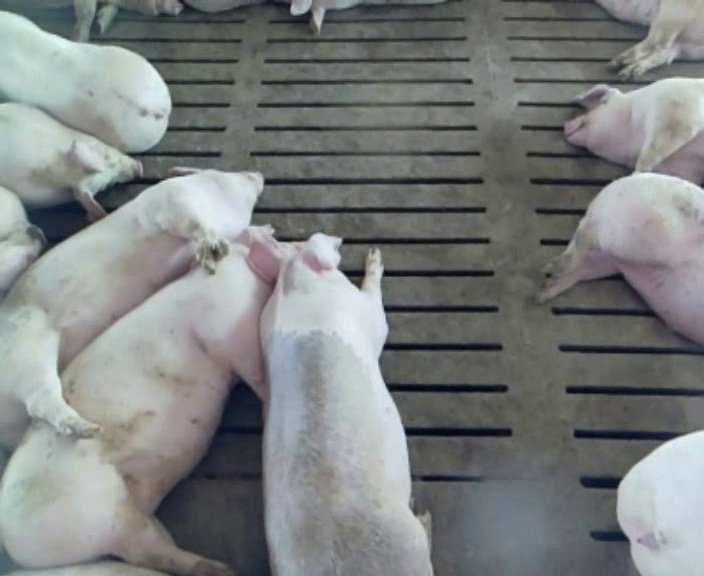pig: (0, 227, 275, 573), (0, 167, 262, 446), (246, 233, 430, 574), (536, 173, 703, 343), (565, 79, 703, 183), (617, 431, 703, 574), (600, 2, 703, 78), (0, 225, 45, 297)
